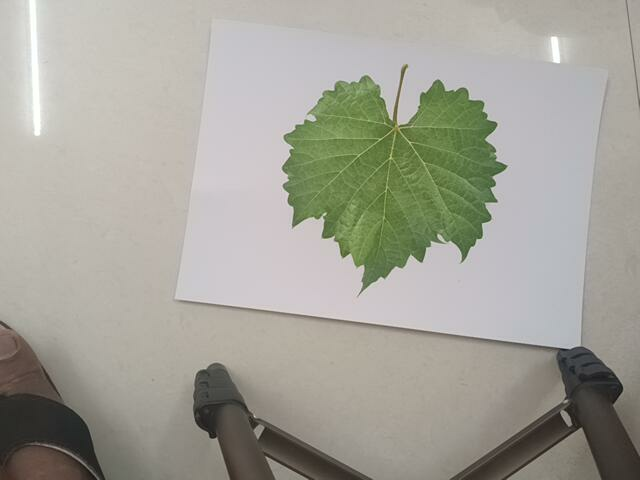Grape_Healthy: (275, 55, 523, 295)
